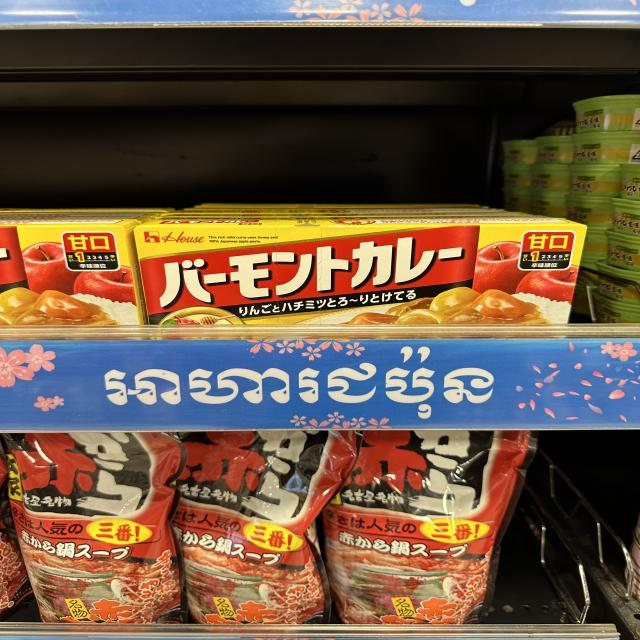Yolov11kh: (95, 352, 505, 426)
